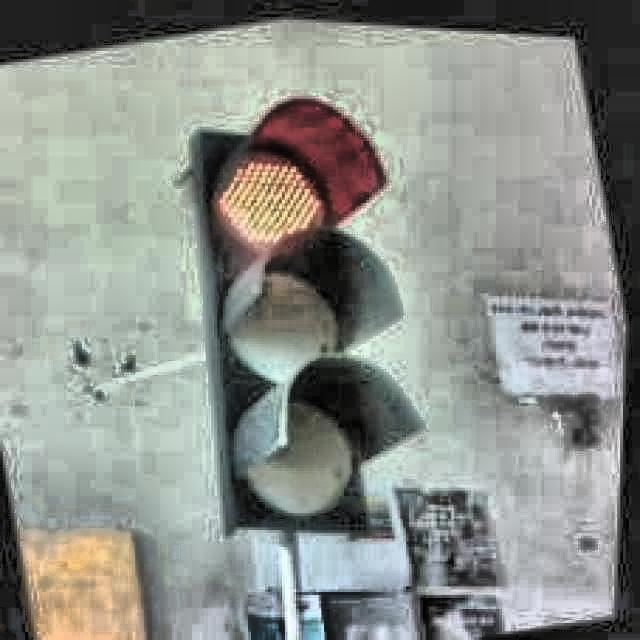red: (209, 119, 392, 530)
